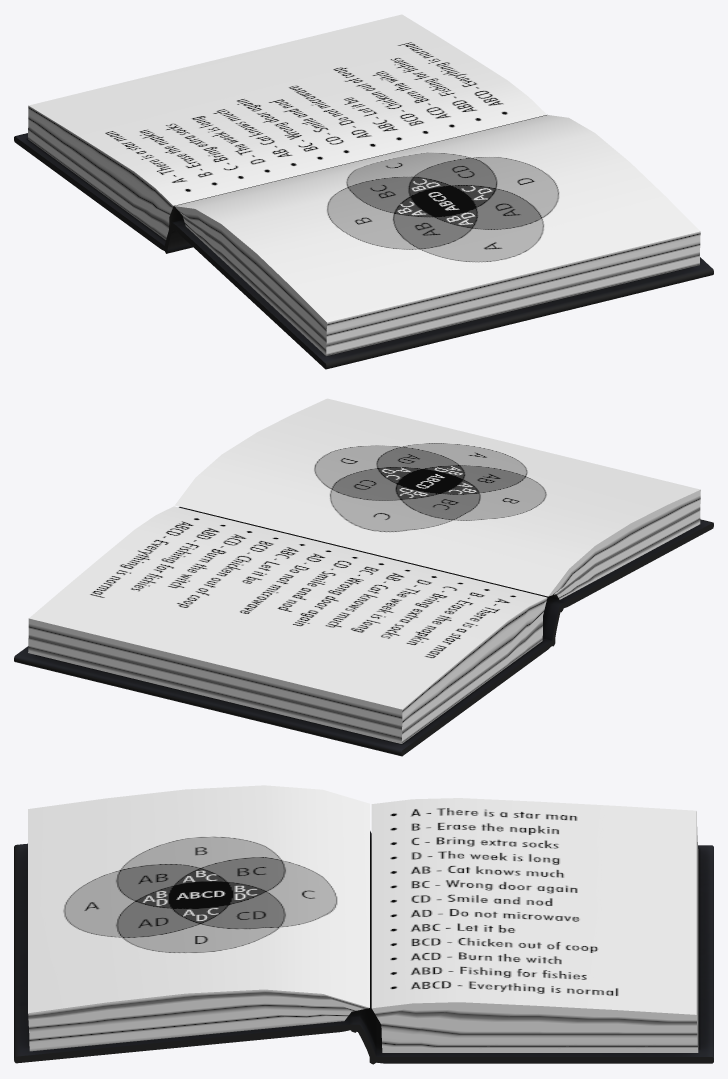
File: book_open.fbx
The picture shows the model from 3 angles, top to bottom: view 1: azimuth 30°, elevation 25°; view 2: azimuth 150°, elevation 25°; view 3: azimuth 270°, elevation 25°; orthographic projection. The views are drawn at different scales.
Visible parts, largest first — view 1: book_a_open; view 2: book_a_open; view 3: book_a_open.
Part boxes in pixels (x1,y1,x2,y2): book_a_open: (14, 14, 713, 369); book_a_open: (14, 398, 713, 756); book_a_open: (14, 785, 713, 1064).
Size of the model in its own units: 2010 by 315 by 2807.
